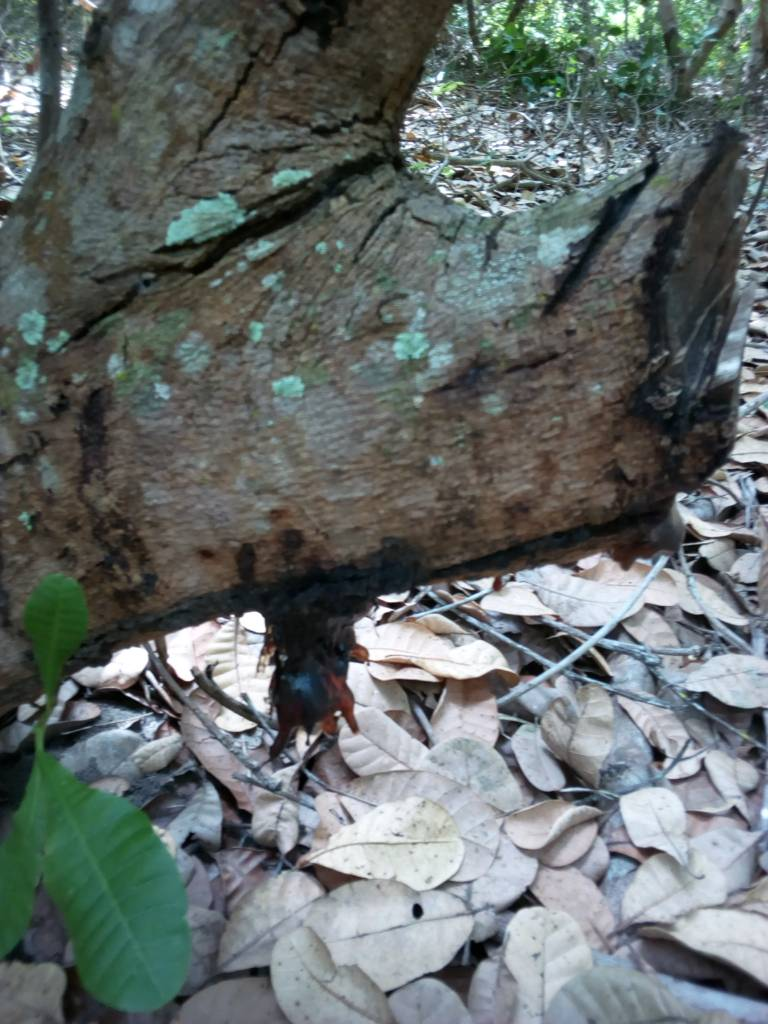Gommose: (272, 552, 360, 753)
